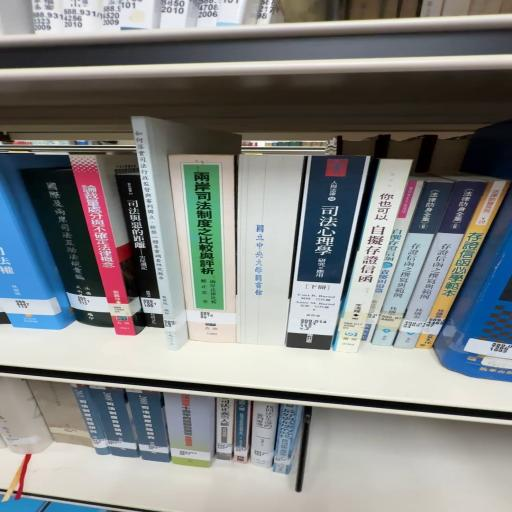backward: (239, 155, 305, 347)
book: (3, 148, 147, 334), (289, 154, 373, 352), (172, 155, 242, 319)
